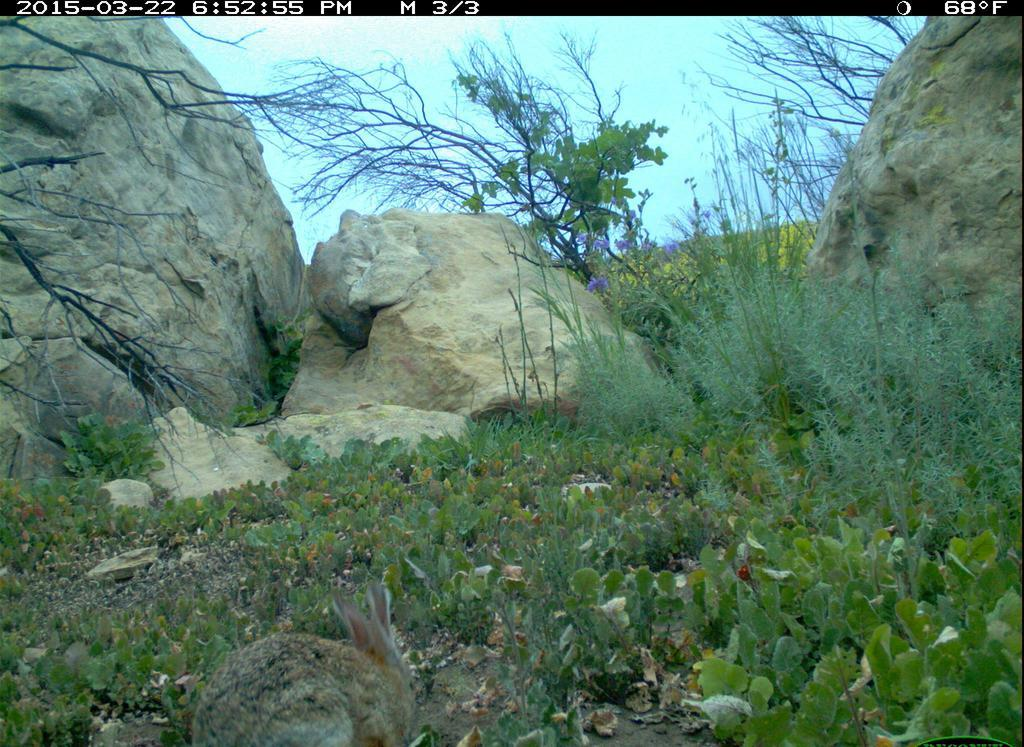rabbit: (185, 583, 445, 747)
